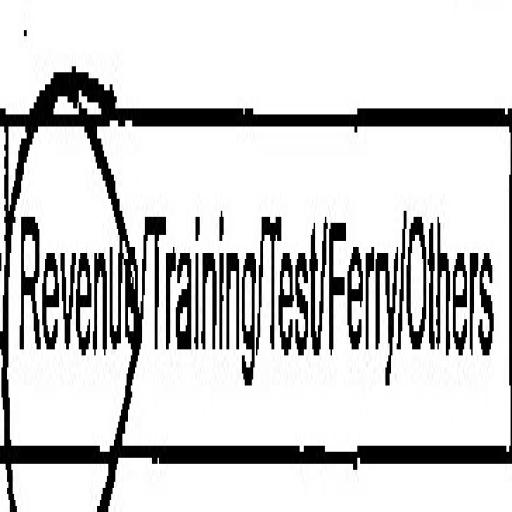check: (0, 6, 145, 512)
